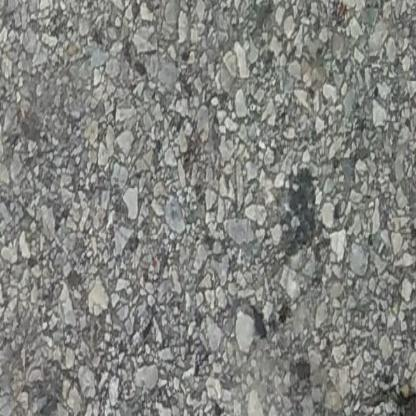Cracks: (362, 369, 416, 416)
